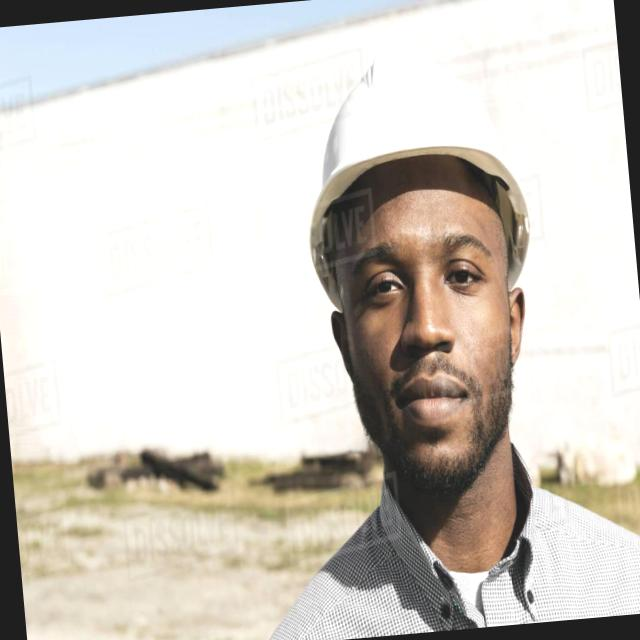helmet: (282, 36, 546, 288)
no-goggles: (332, 221, 514, 326)
